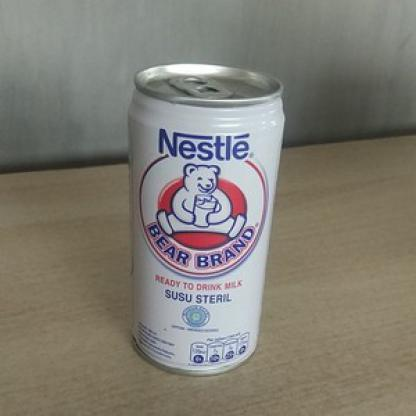can: (126, 56, 296, 375)
